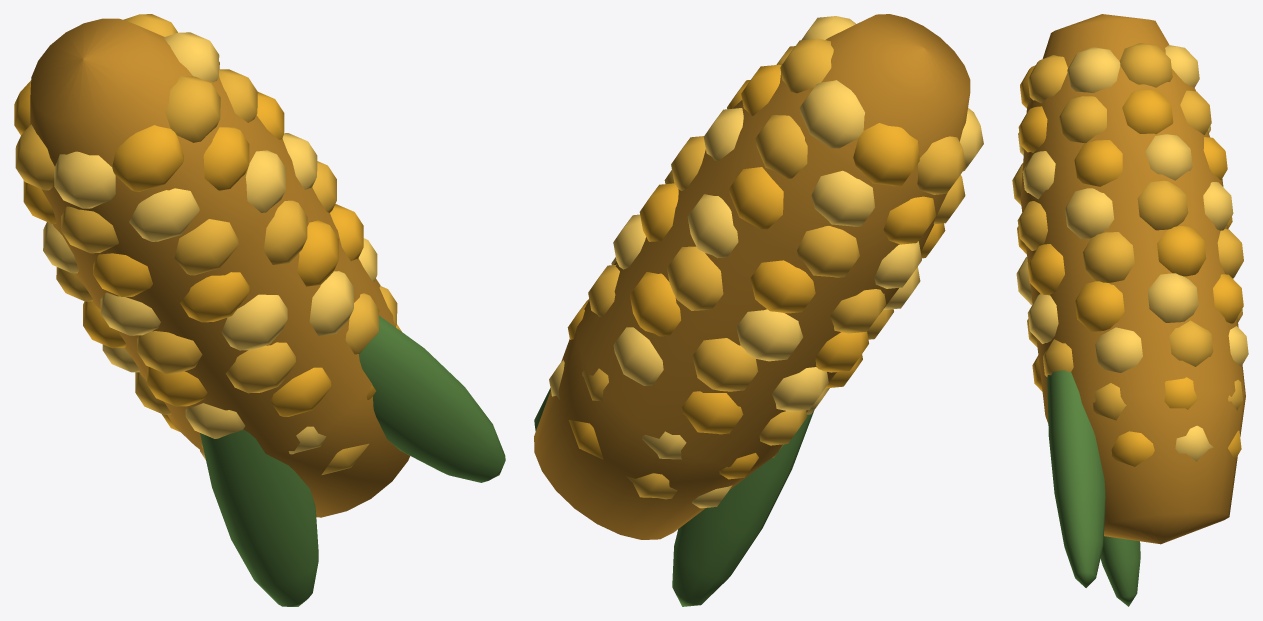
The model's file is corn.glb.
The picture shows the model from 3 angles, left to right: view 1: azimuth 30°, elevation 25°; view 2: azimuth 150°, elevation 25°; view 3: azimuth 270°, elevation 25°; orthographic projection. The views are drawn at different scales.
Visible parts, largest first — view 1: corn; view 2: corn; view 3: corn.
Part boxes in pixels (bbox=[...]): corn: bbox=[14, 14, 505, 606]; corn: bbox=[534, 14, 983, 606]; corn: bbox=[1012, 14, 1248, 606].
Bounding box in the file's own units: 0.7373 × 0.9719 × 0.4032.
